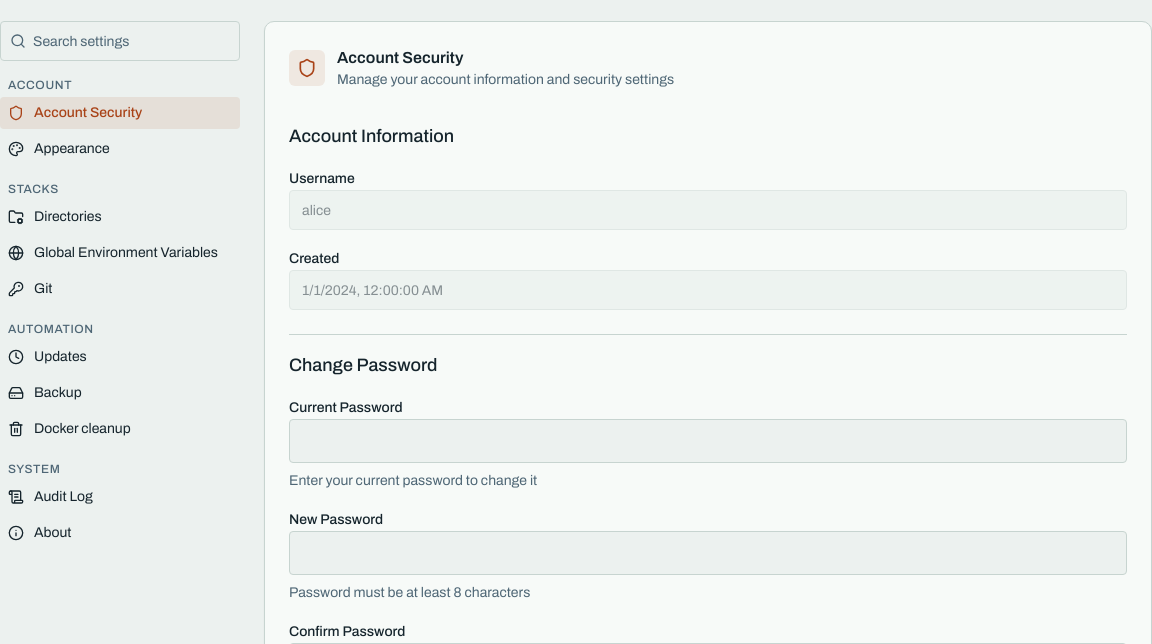
Test: SettingsPage › valid HTML: password confirm dialog › does not nest a <p> inside the DialogDescription (which itself renders a <p>)
This screenshot has width=1152, height=644.
Type "oldpass1" into the password field labelled "Current Password" at x=708, y=441, box [289,419,1127,463]
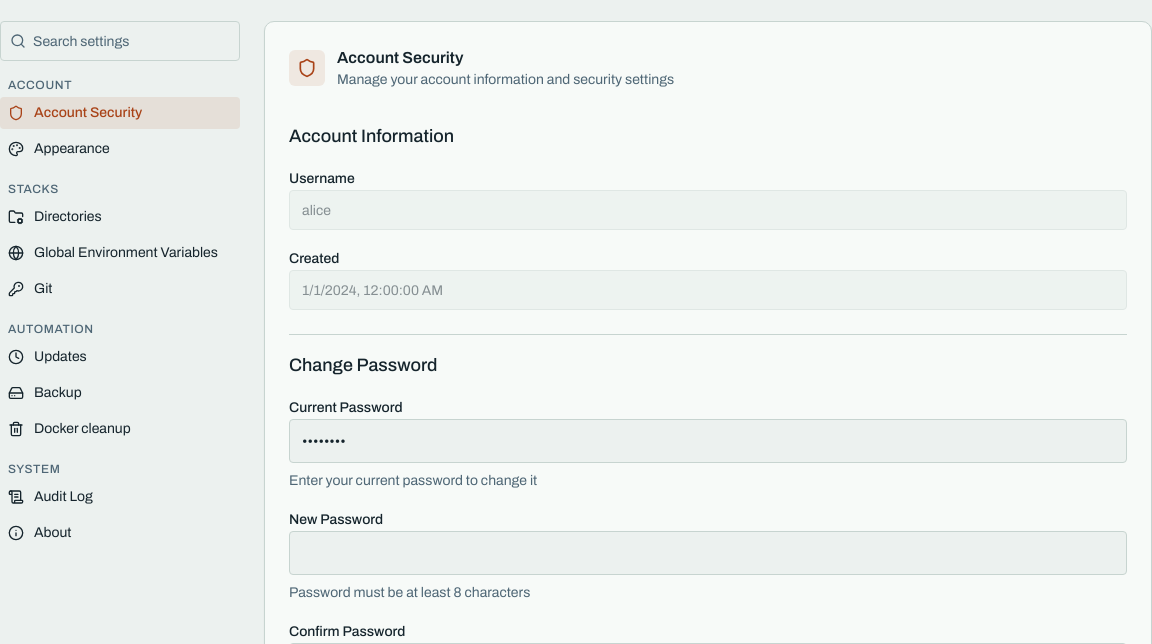
Type "newpassword" into the password field labelled "New Password" at x=708, y=553, box [289,531,1127,575]
(page scrolled)
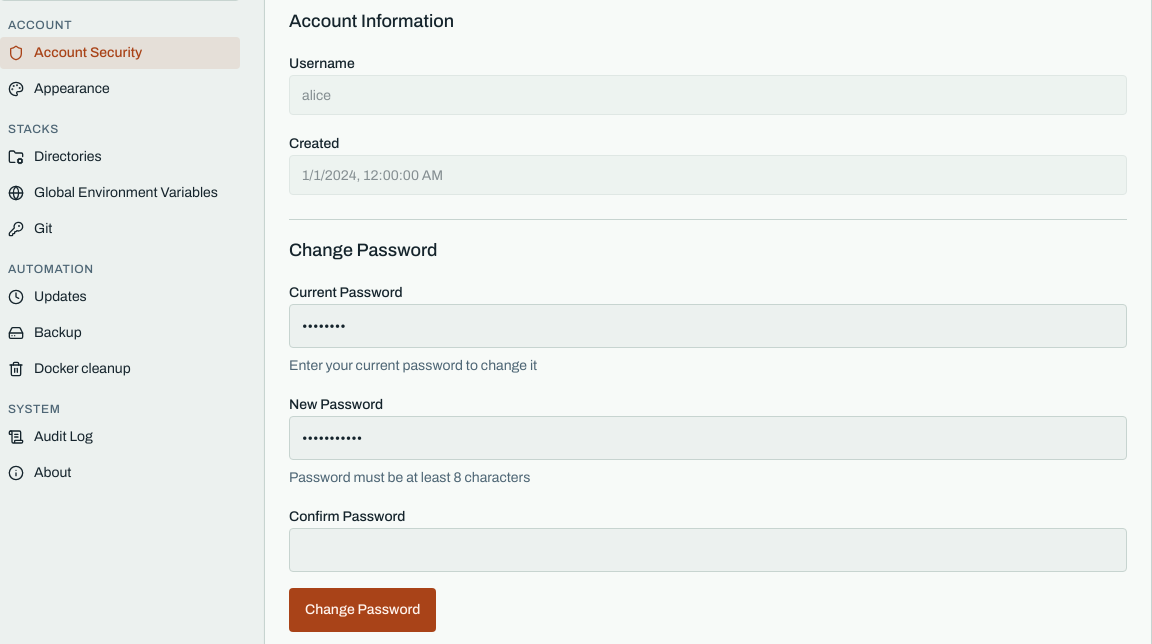
Type "newpassword" into the password field labelled "Confirm Password" at x=708, y=550, box [289,528,1127,572]
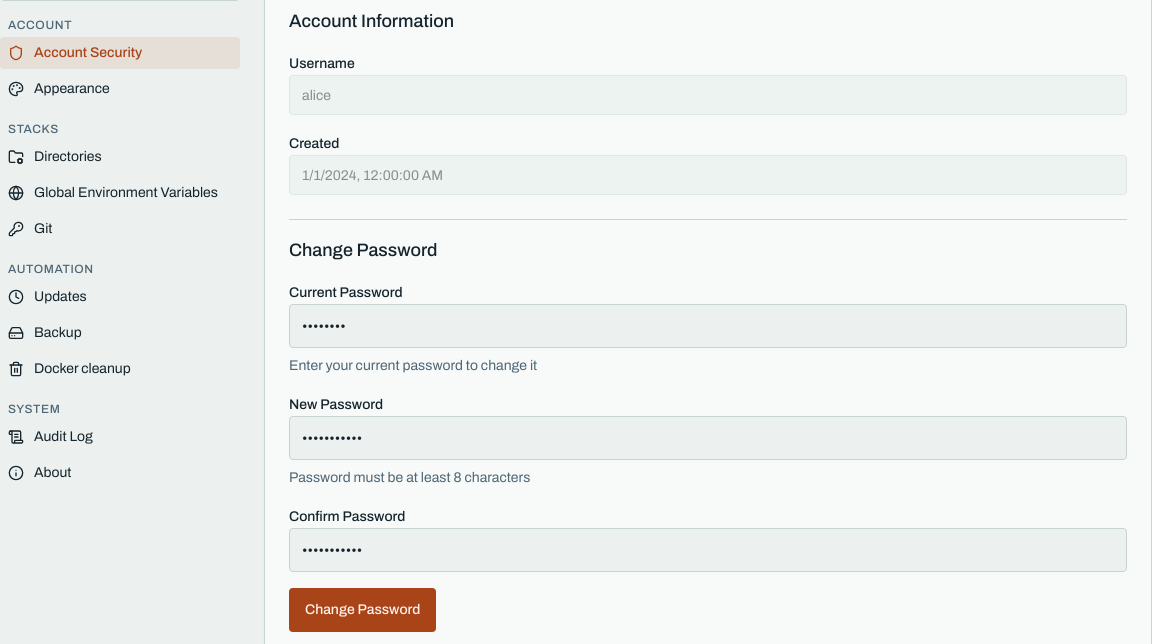
Click the button "Change Password" at x=363, y=610, box [289,588,436,632]
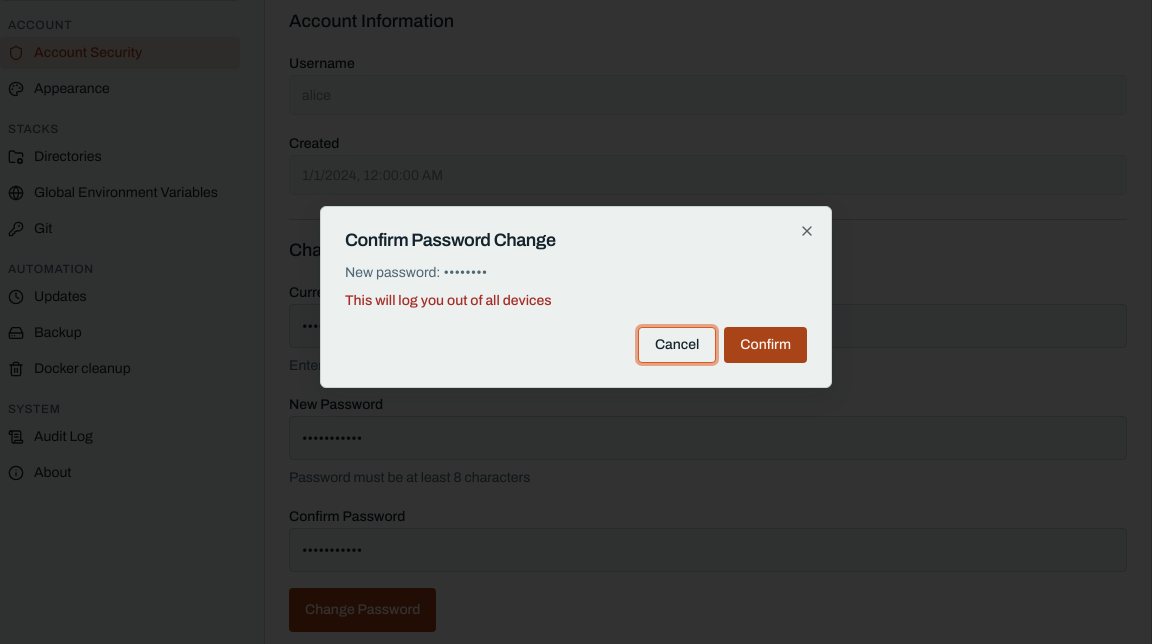
Expected: the heading "Confirm Password Change" is shown, [345,230,556,250]
